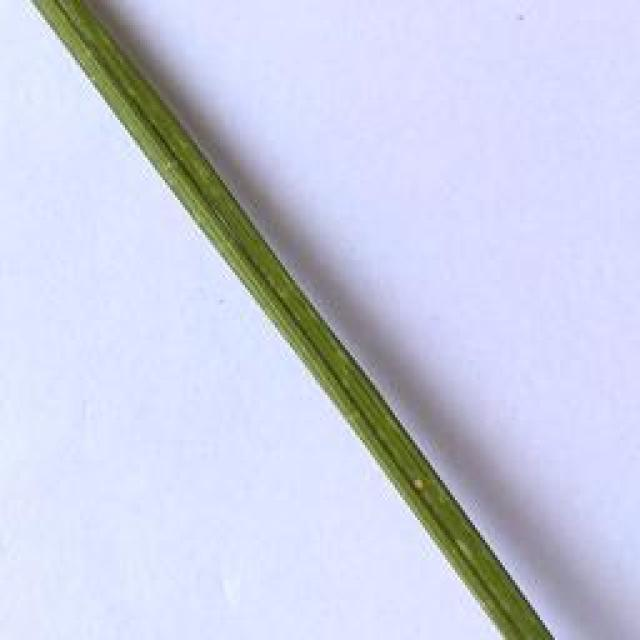Unhealthy: (410, 473, 428, 492)
